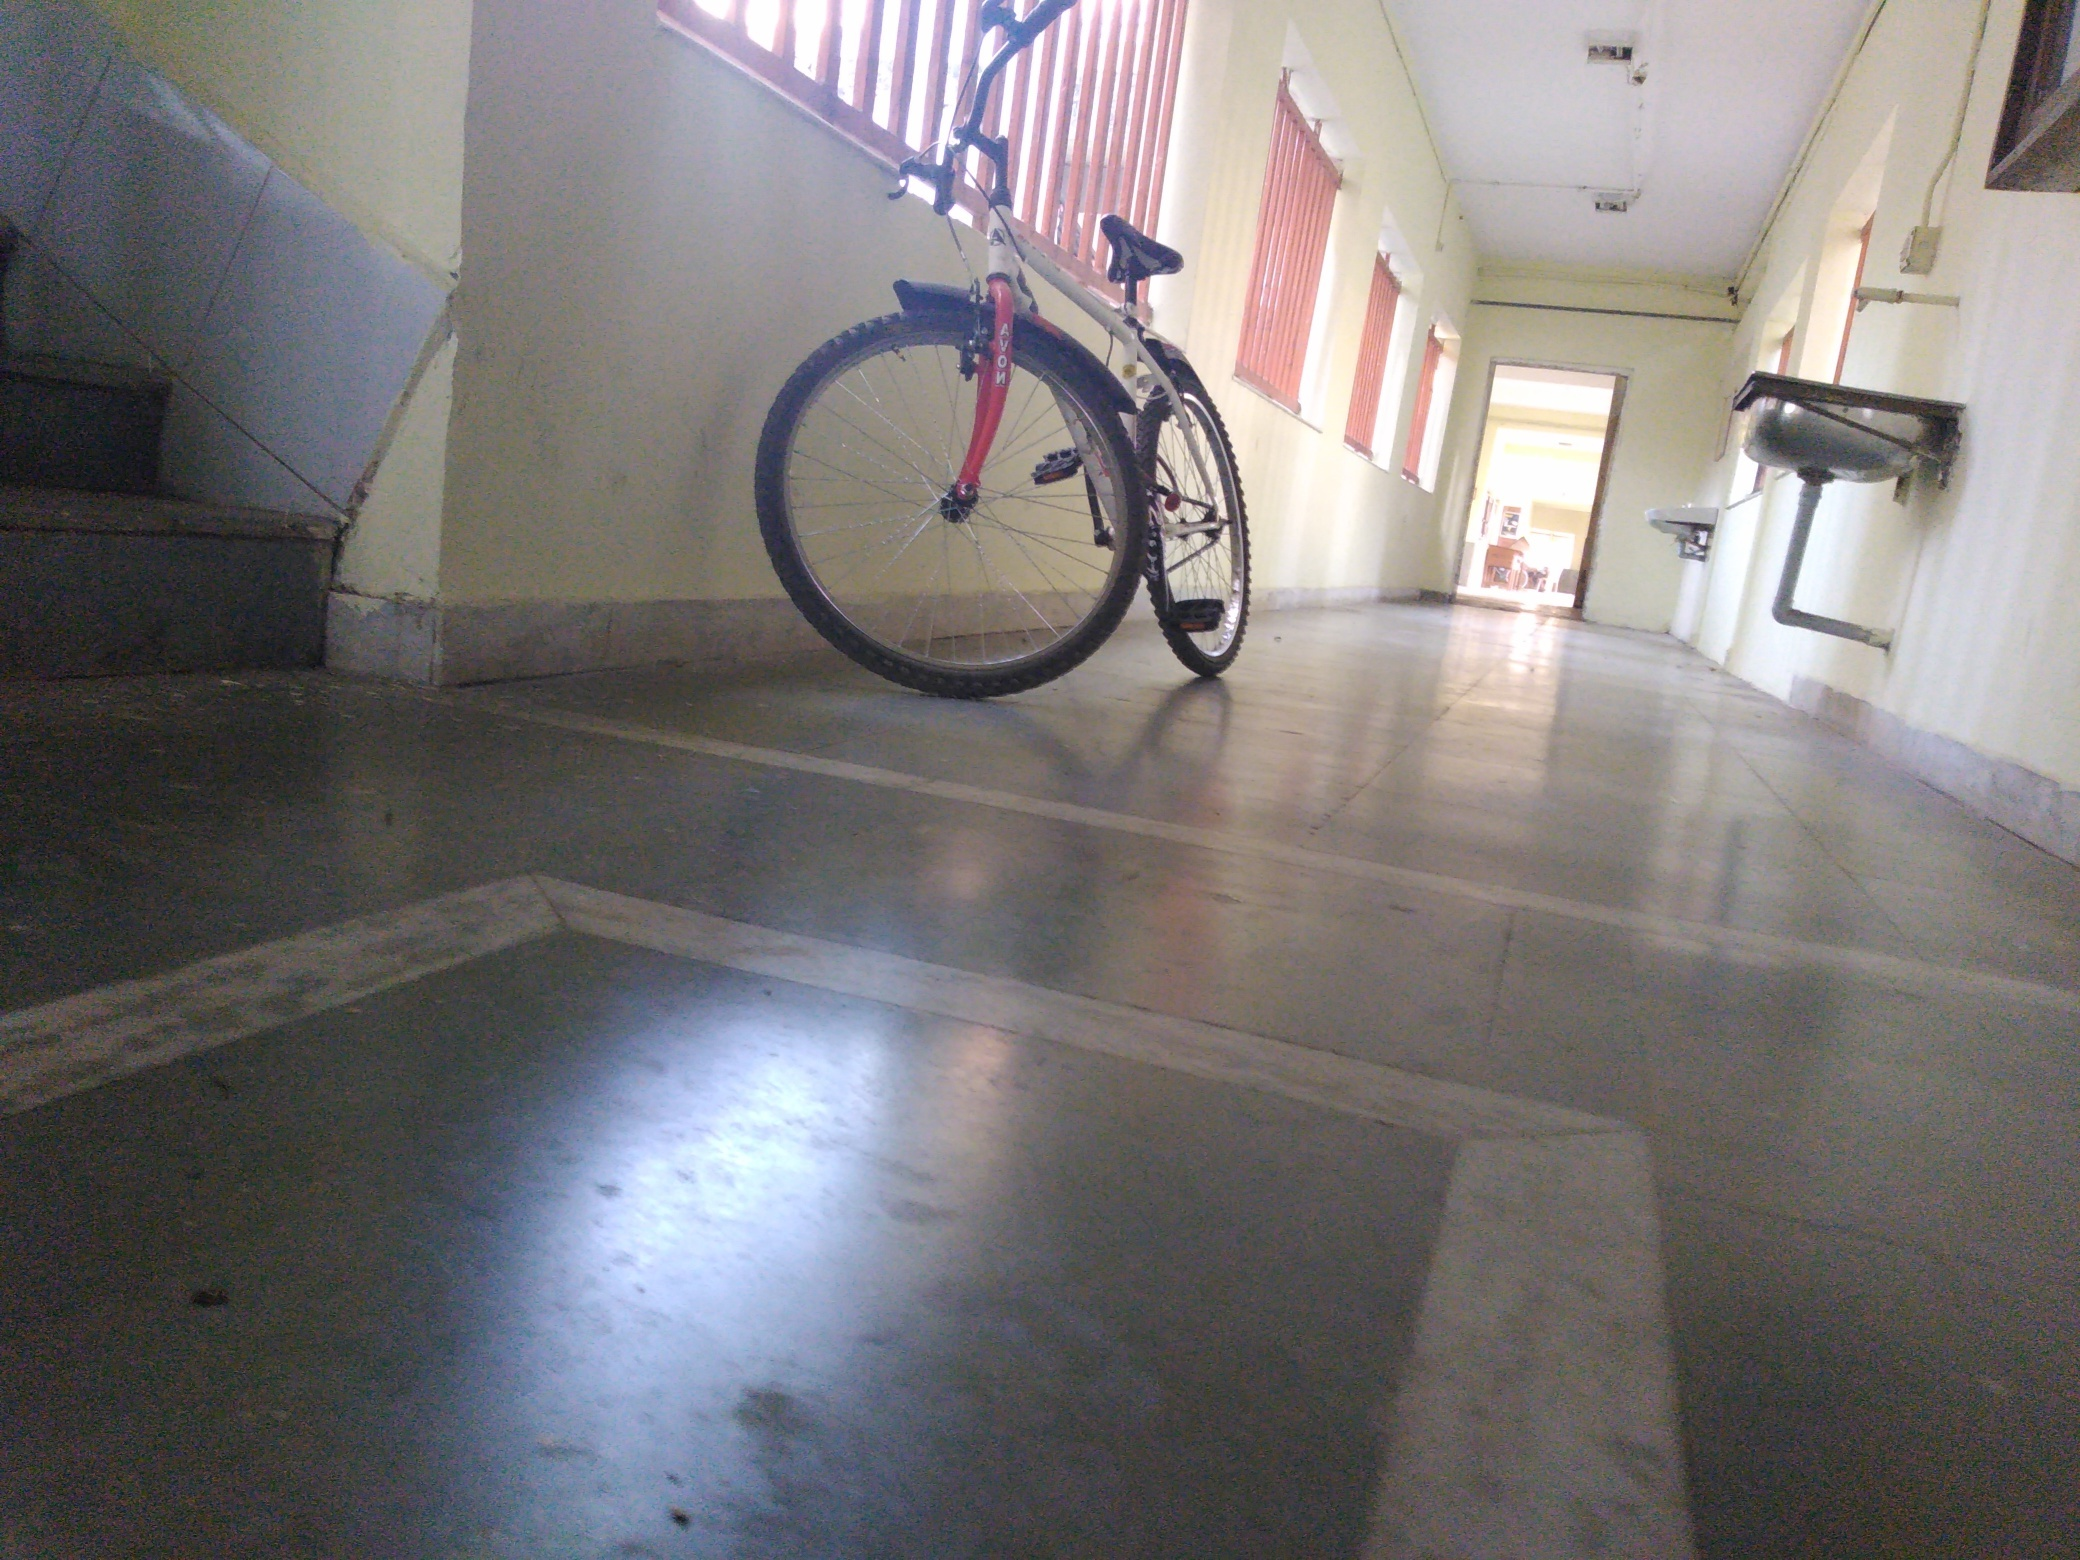stairs_up: (7, 324, 342, 669)
